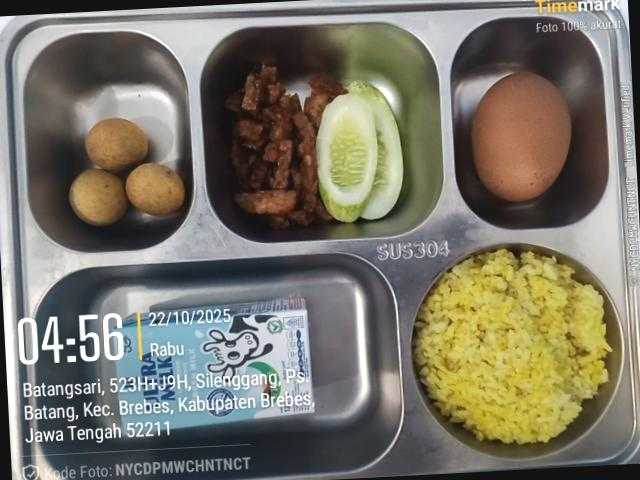buah: (69, 118, 185, 226)
nasi: (413, 249, 612, 443)
sayur: (471, 72, 571, 201), (316, 81, 403, 222)
susu: (114, 299, 314, 428)
telur: (471, 72, 571, 201)
tempe: (226, 64, 347, 228)
